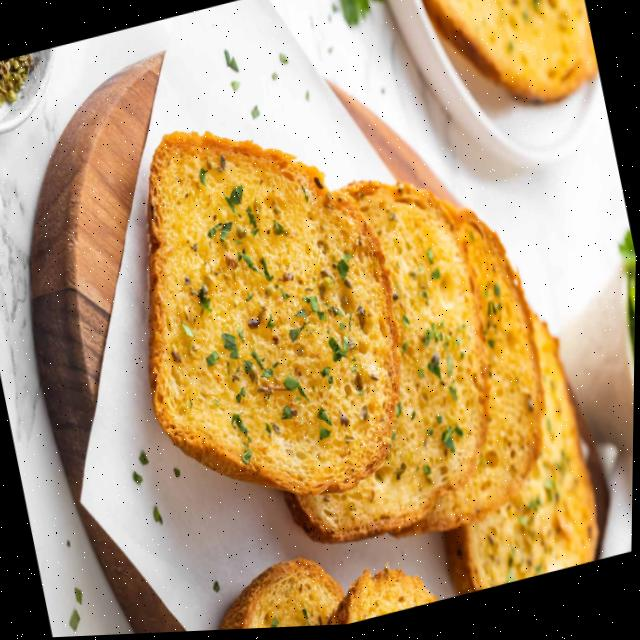Bread: (147, 133, 400, 498), (288, 184, 489, 547), (394, 208, 545, 542), (447, 320, 599, 598), (420, 0, 598, 108), (221, 561, 344, 632)
